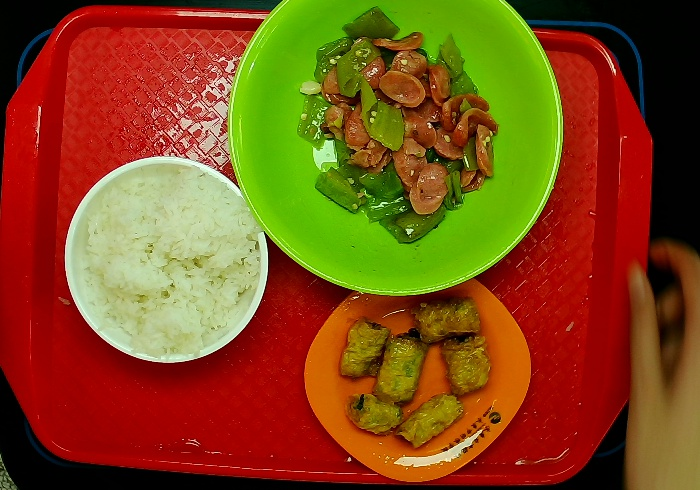YKMZ-Fan_Wan: (56, 151, 272, 367)
YKMZ-Ju_Se_Fang_Die: (298, 266, 534, 484)
YKMZ-Lv_Se_Tang_Wan: (220, 1, 574, 308)
